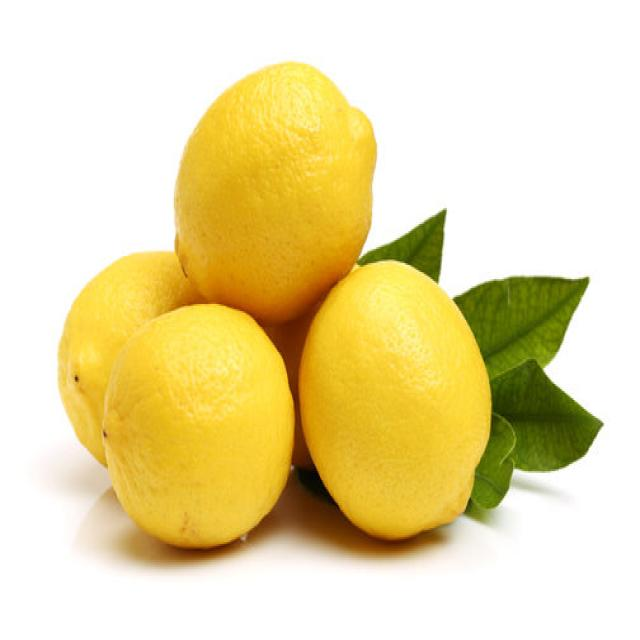Lemon: (295, 268, 490, 550), (173, 59, 377, 324), (100, 300, 295, 550), (56, 249, 202, 467)
